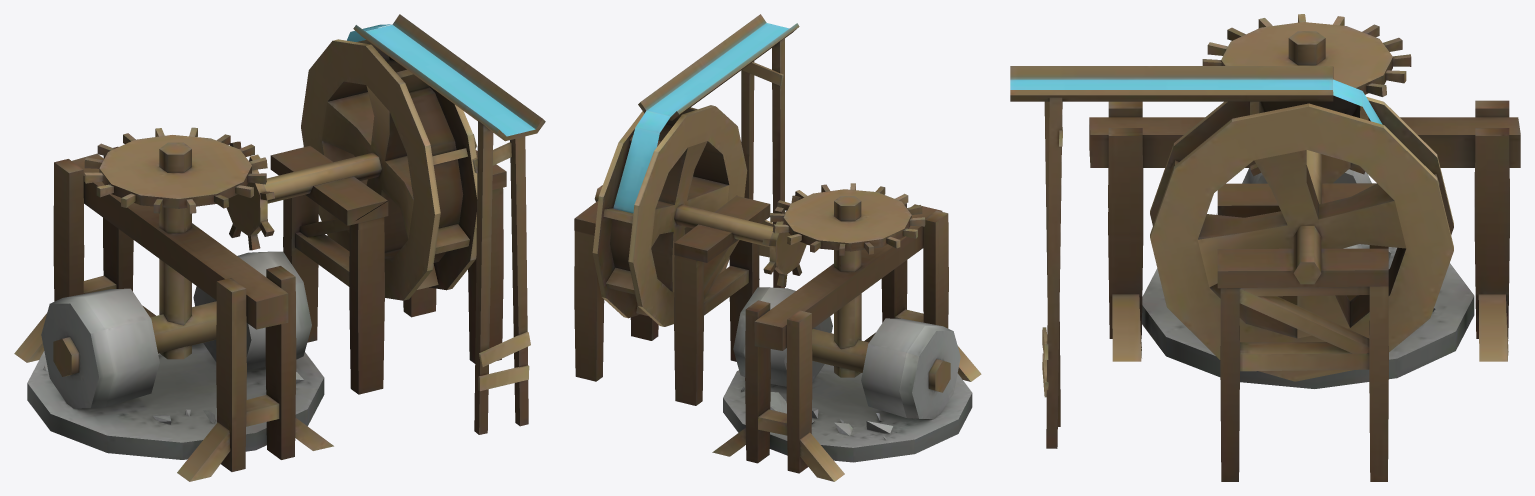
The model's file is stone-crusher.zfix-v1.lod0.glb.
The picture shows the model from 3 angles, left to right: view 1: azimuth 30°, elevation 25°; view 2: azimuth 150°, elevation 25°; view 3: azimuth 270°, elevation 25°; orthographic projection. The views are drawn at different scales.
Visible parts, largest first — view 1: Object_2; view 2: Object_2; view 3: Object_2.
Boxes of the visible parts, x1,y1,x2,y2 form: Object_2: (14, 14, 545, 481); Object_2: (574, 14, 981, 481); Object_2: (1010, 14, 1520, 481).
Bounding box in the file's own units: 9 × 6.54 × 8.34.
1 material, 1 textured.
